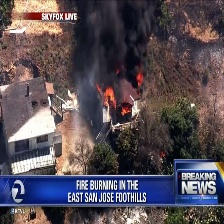fire: (95, 77, 151, 121)
smoke: (71, 1, 163, 86)
